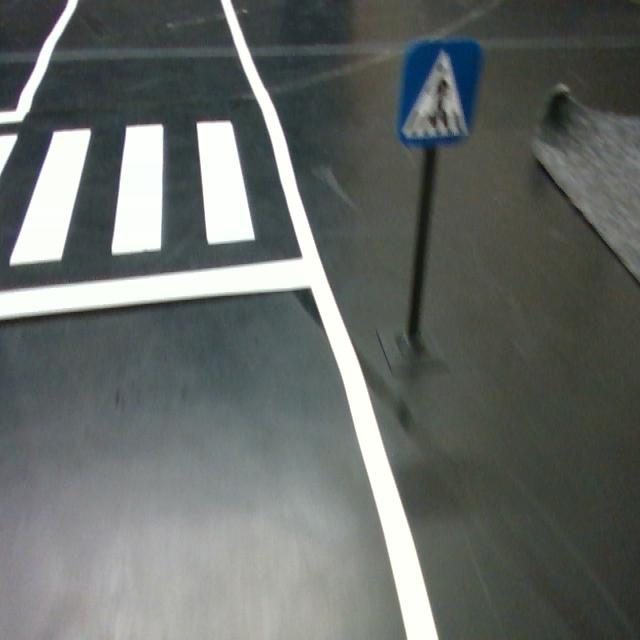crosswalk-sign: (398, 39, 482, 146)
